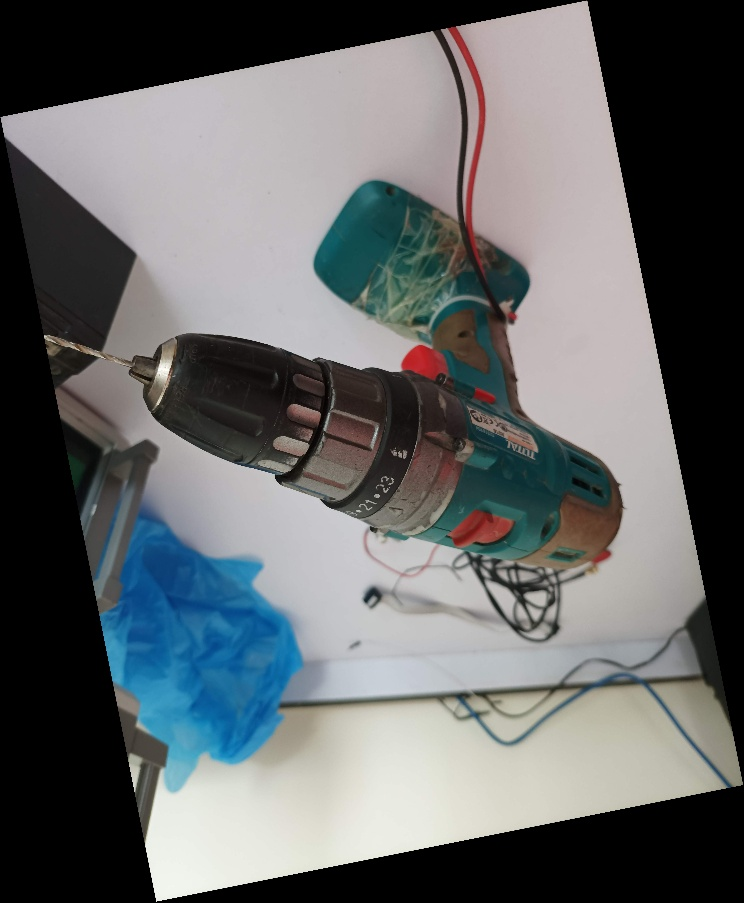driller: (38, 174, 626, 576)
